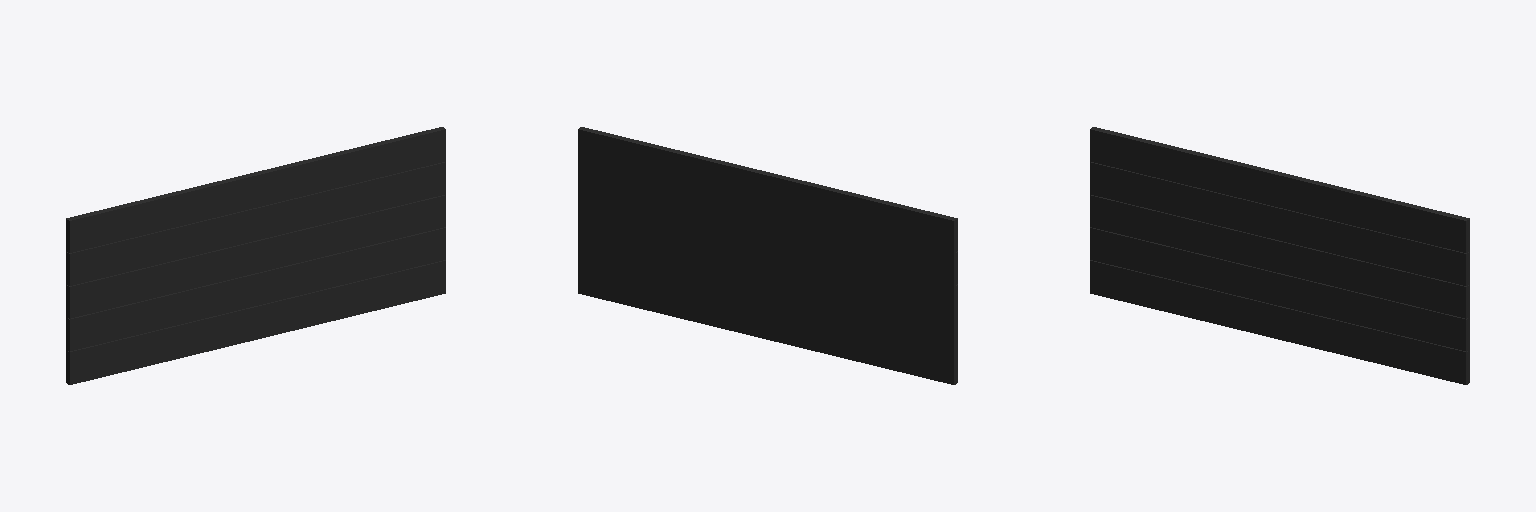
Rendered from garagem_portao.obj.
The picture shows the model from 3 angles: view 1: azimuth 30°, elevation 25°; view 2: azimuth 150°, elevation 25°; view 3: azimuth 330°, elevation 25°; orthographic projection.
Parts seen in each view (by area): view 1: Cube.017, Cube.001, Cube.016, Cube.014, Cube.015; view 2: Cube.017, Cube.016, Cube.001, Cube.015, Cube.014; view 3: Cube.017, Cube.001, Cube.016, Cube.014, Cube.015.
Boxes of the visible parts, x1,y1,x2,y2 form: Cube.017: [66, 127, 445, 252]; Cube.001: [66, 260, 445, 384]; Cube.016: [66, 162, 445, 285]; Cube.014: [66, 227, 445, 351]; Cube.015: [66, 195, 445, 318]; Cube.017: [578, 127, 957, 253]; Cube.016: [578, 162, 957, 286]; Cube.001: [578, 261, 957, 384]; Cube.015: [578, 195, 957, 319]; Cube.014: [578, 228, 957, 352]; Cube.017: [1090, 127, 1469, 252]; Cube.001: [1090, 260, 1469, 384]; Cube.016: [1090, 162, 1469, 285]; Cube.014: [1090, 227, 1469, 351]; Cube.015: [1090, 195, 1469, 318].
Size of the model in its own units: 11.97 by 4.99 by 0.2004.